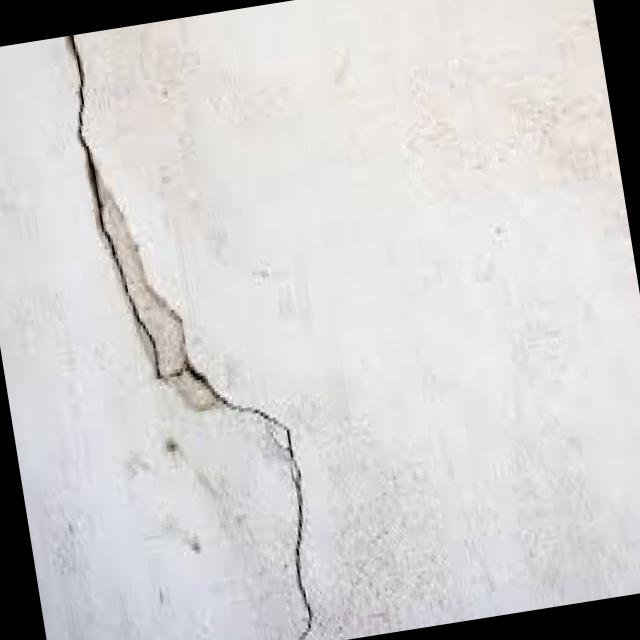crack: (55, 11, 324, 640)
